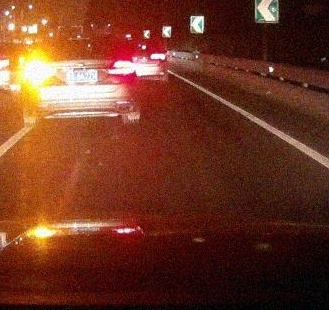L_light: (25, 62, 54, 76)
R_light: (107, 60, 136, 76)
T_light: (67, 40, 86, 43)
night-left: (22, 38, 139, 129)
